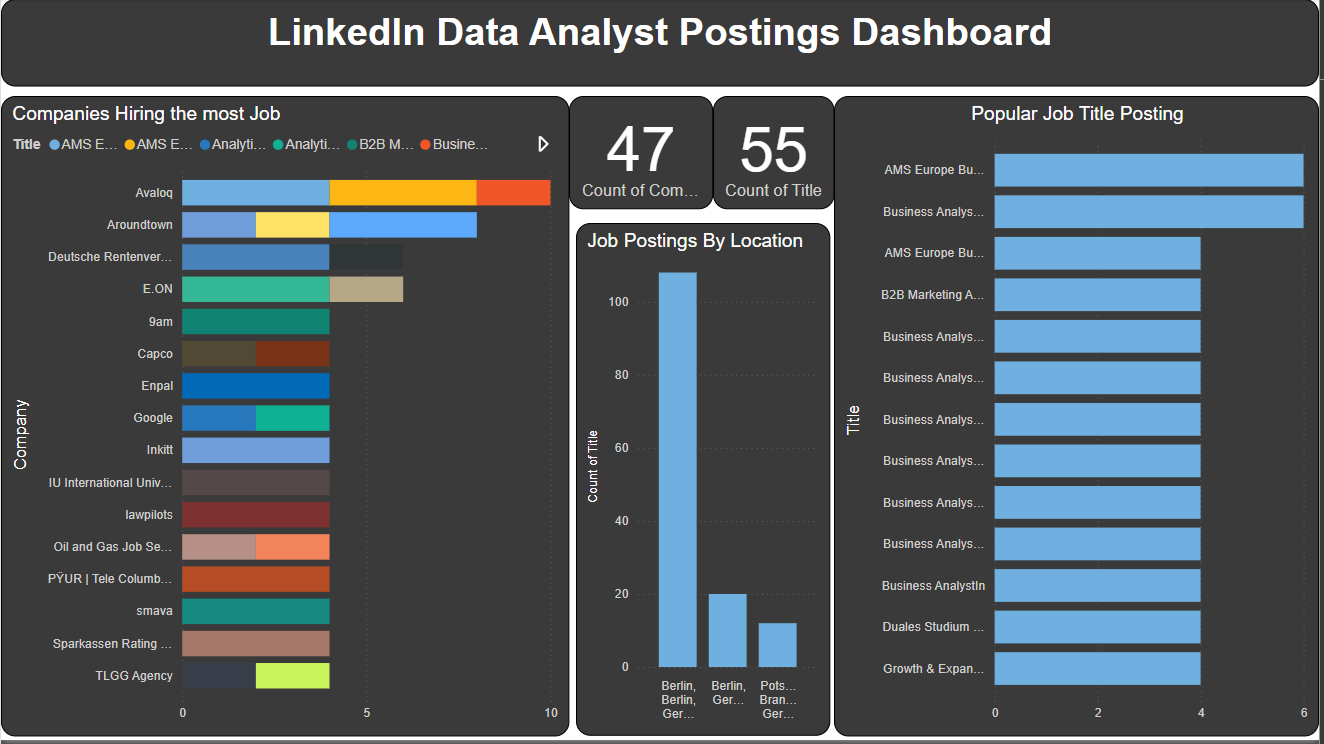

What the dashboard file says about the page in this screenshot:
{"tool":"powerbi","page":{"name":"Page 1","canvas":[1280,720],"ordinal":0},"visuals":[{"type":"barChart","title":"Companies Hiring the most Job ","fields":{"Category":["da_jobs_new job_listings.Company"],"Y":["CountNonNull(da_jobs_new job_listings.Title)"],"Series":["da_jobs_new job_listings.Title"]},"box":[0,94.2,551.6,621.5],"z":0},{"type":"textbox","box":[0,0,1280,85.5],"z":1000},{"type":"columnChart","title":"Job Postings By Location","fields":{"Category":["da_jobs_new job_listings.Location"],"Y":["CountNonNull(da_jobs_new job_listings.Title)"]},"box":[558.4,217.5,246.7,498.2],"z":2000},{"type":"card","fields":{"Values":["Count(da_jobs_new job_listings.Title)"]},"box":[691.5,94.2,117.5,109.7],"z":3000},{"type":"card","fields":{"Values":["Count(da_jobs_new job_listings.Company)"]},"box":[551.6,94.2,139.8,109.7],"z":4000},{"type":"clusteredBarChart","title":"Popular Job Title Posting","fields":{"Category":["da_jobs_new job_listings.Title"],"Y":["da_jobs_new job_listings.Job Title Count"]},"box":[809,94.2,471,621.5],"z":5001}]}

Visuals, with their boxes in screenshot pixels (x1, y1, x2, y2), scaled from the page's 1280x720 canvas onto the 1324x744 screenshot:
"Companies Hiring the most Job " barChart: [x1=0, y1=97, x2=571, y2=740]
textbox: [x1=0, y1=0, x2=1323, y2=88]
"Job Postings By Location" columnChart: [x1=578, y1=225, x2=833, y2=740]
card - Count(da_jobs_new job_listings.Title): [x1=715, y1=97, x2=837, y2=211]
card - Count(da_jobs_new job_listings.Company): [x1=571, y1=97, x2=715, y2=211]
"Popular Job Title Posting" clusteredBarChart: [x1=837, y1=97, x2=1323, y2=740]
